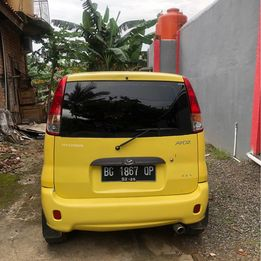plate: (101, 165, 159, 184)
